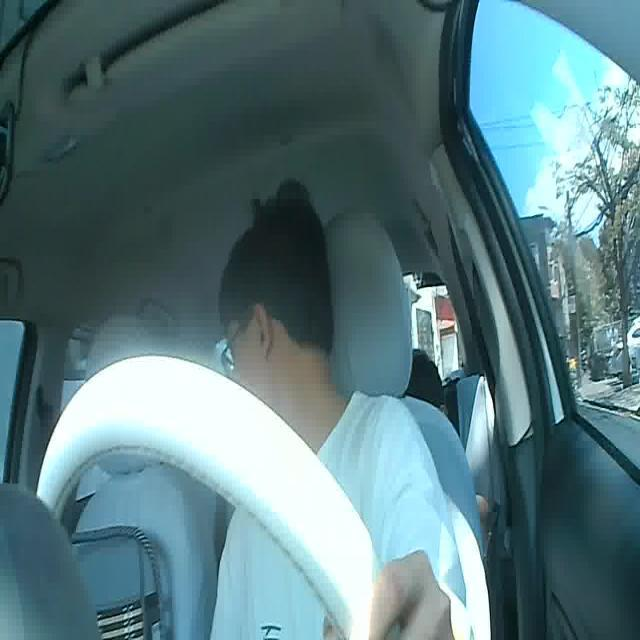Inattentive: (216, 182, 332, 421)
